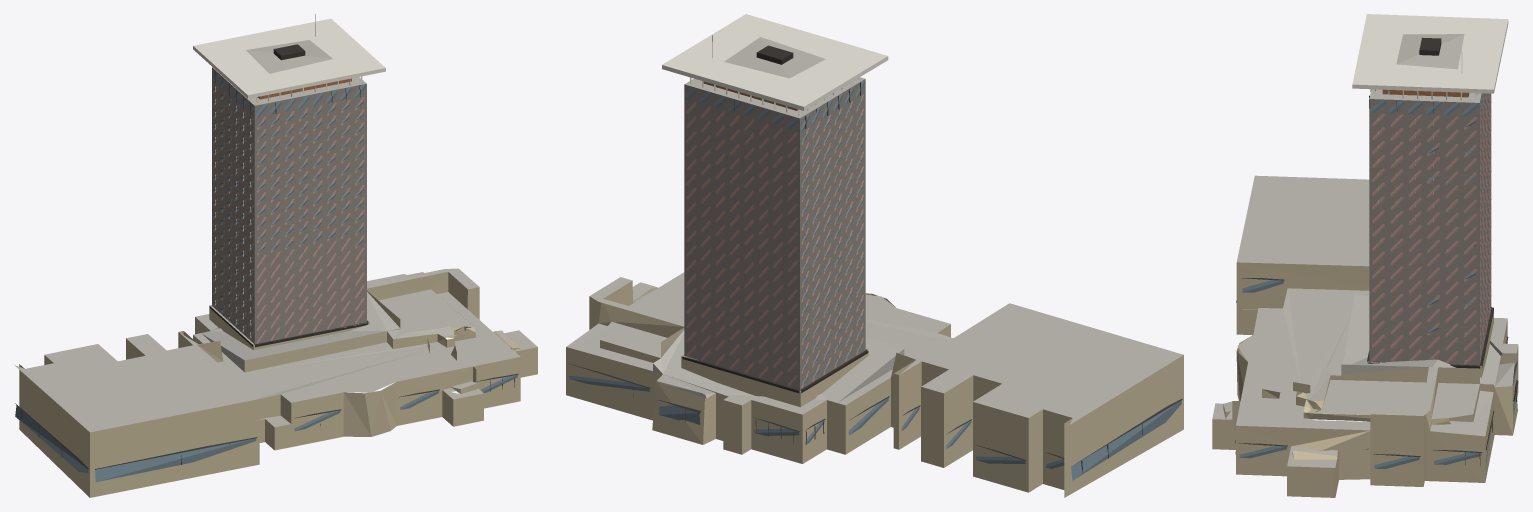
The model's file is hotel-okura.lod1.glb.
3 views of the same model, side by side, from view 1: azimuth 30°, elevation 25°; view 2: azimuth 150°, elevation 25°; view 3: azimuth 270°, elevation 25° (orthographic). The views are drawn at different scales.
Parts seen in each view (by area): view 1: hotel-okura; view 2: hotel-okura; view 3: hotel-okura.
Boxes of the visible parts, <box> form: hotel-okura: <box>14,14,537,497</box>; hotel-okura: <box>566,14,1183,497</box>; hotel-okura: <box>1212,14,1518,497</box>.
Size of the model in its own units: 121 by 83.5 by 62.49.
